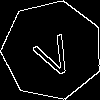V: (27, 25, 79, 81)
